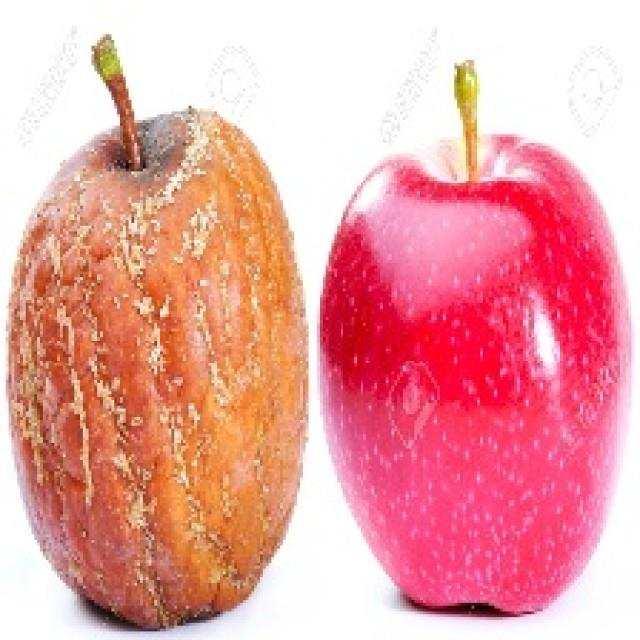100-_ripeness: (319, 125, 631, 622)
rotten_apple: (20, 113, 308, 629)
